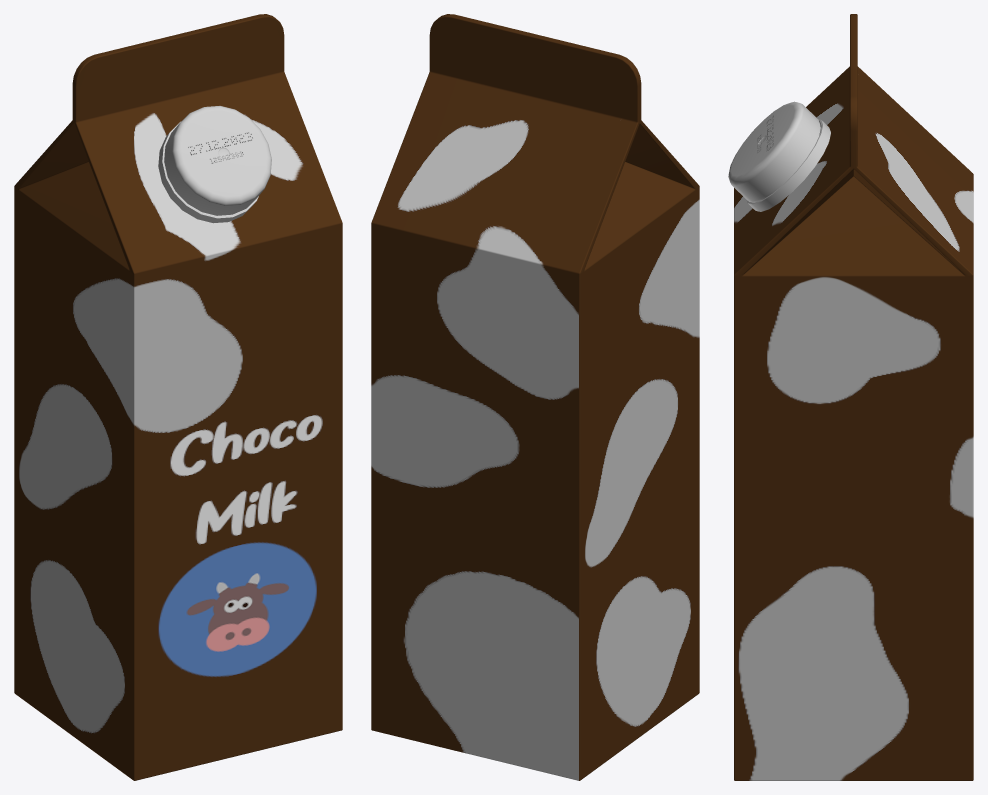
Rendered from Milk Carton Chocolate old.fbx.
The picture shows the model from 3 angles, left to right: view 1: azimuth 30°, elevation 25°; view 2: azimuth 150°, elevation 25°; view 3: azimuth 270°, elevation 25°; orthographic projection.
Parts seen in each view (by area): view 1: pCylinder55; view 2: pCylinder55; view 3: pCylinder55.
Part boxes in pixels (x1,y1,x2,y2): pCylinder55: [14, 14, 342, 780]; pCylinder55: [371, 14, 699, 780]; pCylinder55: [728, 14, 973, 780].
Bounding box in the file's own units: 0.9354 × 2.89 × 0.9545.
1 material, 1 textured.
